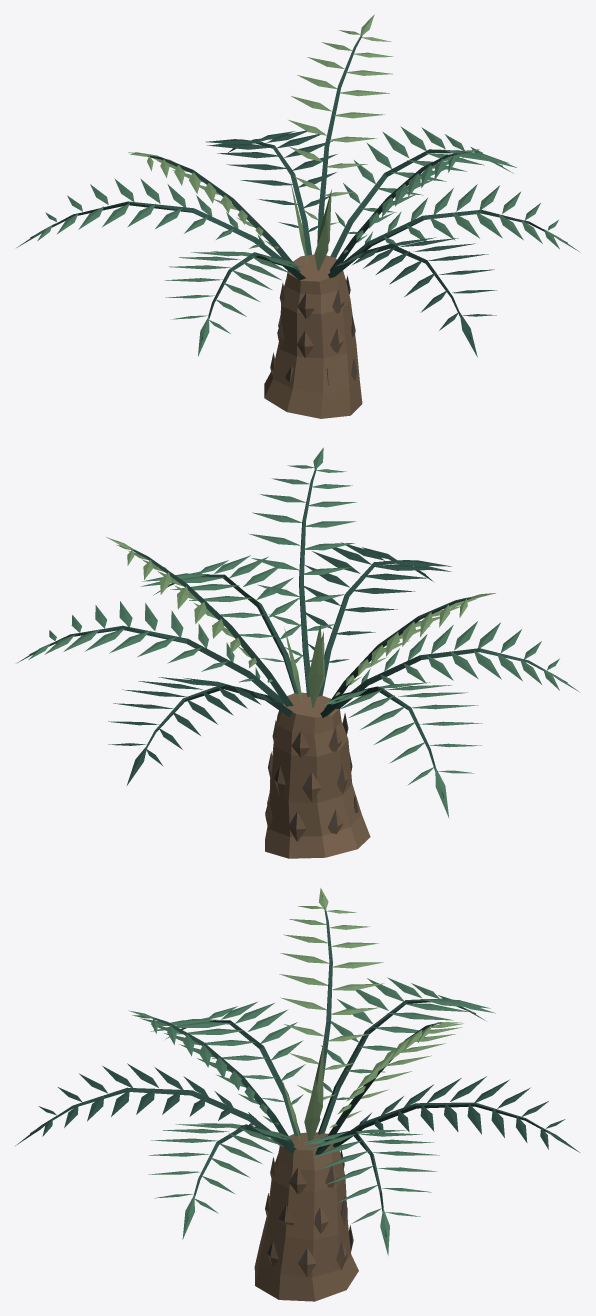
File: cycad.glb
The picture shows the model from 3 angles, top to bottom: view 1: azimuth 30°, elevation 25°; view 2: azimuth 150°, elevation 25°; view 3: azimuth 270°, elevation 25°; orthographic projection. The views are drawn at different scales.
Visible parts, largest first — view 1: Short stout caudex, Tapering stiff rachises, Rigid pinnate crown frond 07, Rigid pinnate crown frond 06, Rigid pinnate crown frond 02, Rigid pinnate crown frond 05, Rigid pinnate crown frond 03, Rigid pinnate crown frond 01, Rigid pinnate crown frond 04, Faceted persistent leaf bases, Rigid pinnate crown frond 09, Rigid pinnate crown frond 08 (+1 smaller); view 2: Short stout caudex, Tapering stiff rachises, Rigid pinnate crown frond 09, Rigid pinnate crown frond 05, Rigid pinnate crown frond 04, Rigid pinnate crown frond 01, Rigid pinnate crown frond 03, Rigid pinnate crown frond 06, Rigid pinnate crown frond 02, Faceted persistent leaf bases, Rigid pinnate crown frond 07, Rigid pinnate crown frond 08 (+1 smaller); view 3: Short stout caudex, Tapering stiff rachises, Rigid pinnate crown frond 03, Rigid pinnate crown frond 08, Rigid pinnate crown frond 02, Rigid pinnate crown frond 04, Rigid pinnate crown frond 01, Rigid pinnate crown frond 05, Rigid pinnate crown frond 06, Faceted persistent leaf bases, Rigid pinnate crown frond 07, Rigid pinnate crown frond 09 (+1 smaller).
Boxes of the visible parts, bbox=[...] form: Short stout caudex: bbox=[264, 254, 362, 418]; Tapering stiff rachises: bbox=[30, 22, 567, 340]; Rigid pinnate crown frond 07: bbox=[288, 14, 393, 224]; Rigid pinnate crown frond 06: bbox=[361, 184, 579, 251]; Rigid pinnate crown frond 02: bbox=[206, 130, 337, 231]; Rigid pinnate crown frond 05: bbox=[335, 237, 496, 357]; Rigid pinnate crown frond 03: bbox=[16, 178, 264, 248]; Rigid pinnate crown frond 01: bbox=[335, 126, 516, 233]; Rigid pinnate crown frond 04: bbox=[164, 251, 304, 356]; Faceted persistent leaf bases: bbox=[270, 275, 357, 384]; Rigid pinnate crown frond 09: bbox=[343, 149, 479, 253]; Rigid pinnate crown frond 08: bbox=[128, 152, 278, 248]; Short stout caudex: bbox=[265, 692, 370, 858]; Tapering stiff rachises: bbox=[29, 455, 567, 797]; Rigid pinnate crown frond 09: bbox=[248, 447, 356, 662]; Rigid pinnate crown frond 05: bbox=[304, 542, 451, 662]; Rigid pinnate crown frond 04: bbox=[357, 621, 580, 692]; Rigid pinnate crown frond 01: bbox=[16, 601, 260, 682]; Rigid pinnate crown frond 03: bbox=[322, 682, 482, 818]; Rigid pinnate crown frond 06: bbox=[141, 555, 302, 662]; Rigid pinnate crown frond 02: bbox=[108, 677, 283, 785]; Faceted persistent leaf bases: bbox=[265, 713, 358, 841]; Rigid pinnate crown frond 07: bbox=[106, 537, 272, 682]; Rigid pinnate crown frond 08: bbox=[335, 593, 495, 696]; Short stout caudex: bbox=[254, 1132, 358, 1301]; Tapering stiff rachises: bbox=[30, 895, 566, 1236]; Rigid pinnate crown frond 03: bbox=[321, 977, 495, 1099]; Rigid pinnate crown frond 08: bbox=[279, 888, 384, 1099]; Rigid pinnate crown frond 02: bbox=[359, 1076, 579, 1152]; Rigid pinnate crown frond 04: bbox=[150, 1002, 305, 1104]; Rigid pinnate crown frond 01: bbox=[303, 1129, 439, 1255]; Rigid pinnate crown frond 05: bbox=[15, 1063, 256, 1145]; Rigid pinnate crown frond 06: bbox=[148, 1123, 296, 1239]; Faceted persistent leaf bases: bbox=[261, 1150, 353, 1277]; Rigid pinnate crown frond 07: bbox=[330, 1022, 463, 1127]; Rigid pinnate crown frond 09: bbox=[129, 1010, 278, 1125].
Bounding box in the file's own units: 2.11 × 1.37 × 2.17.
